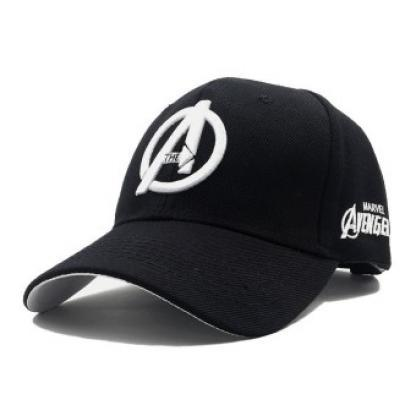cap: (18, 72, 400, 343)
